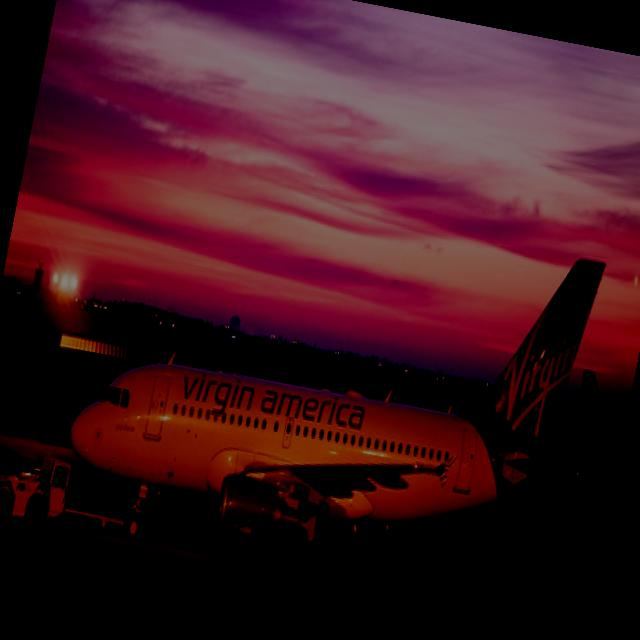Vehicle: (0, 444, 73, 532)
